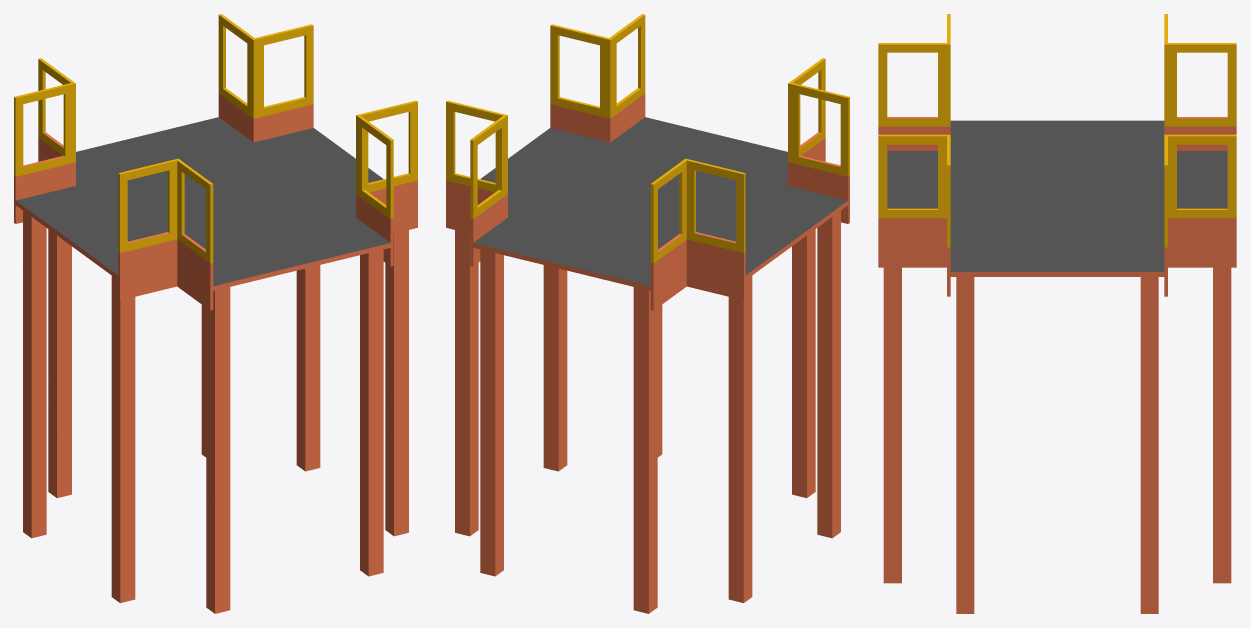
Rendered from Prop_Industrial_Platform_Walkway_Narrow_Intersection_02.FBX.
3 renders of one model, left to right at view 1: azimuth 30°, elevation 25°; view 2: azimuth 150°, elevation 25°; view 3: azimuth 270°, elevation 25°, orthographic. The views are drawn at different scales.
Visible parts, largest first — view 1: Prop_Industrial_Platform_Walkway_Narrow_Intersection_02; view 2: Prop_Industrial_Platform_Walkway_Narrow_Intersection_02; view 3: Prop_Industrial_Platform_Walkway_Narrow_Intersection_02.
Part boxes in pixels (x1,y1,x2,y2): Prop_Industrial_Platform_Walkway_Narrow_Intersection_02: (14,14,417,613); Prop_Industrial_Platform_Walkway_Narrow_Intersection_02: (446,14,849,613); Prop_Industrial_Platform_Walkway_Narrow_Intersection_02: (878,14,1236,613).
Size of the model in its own units: 3960 by 5500 by 3960.
